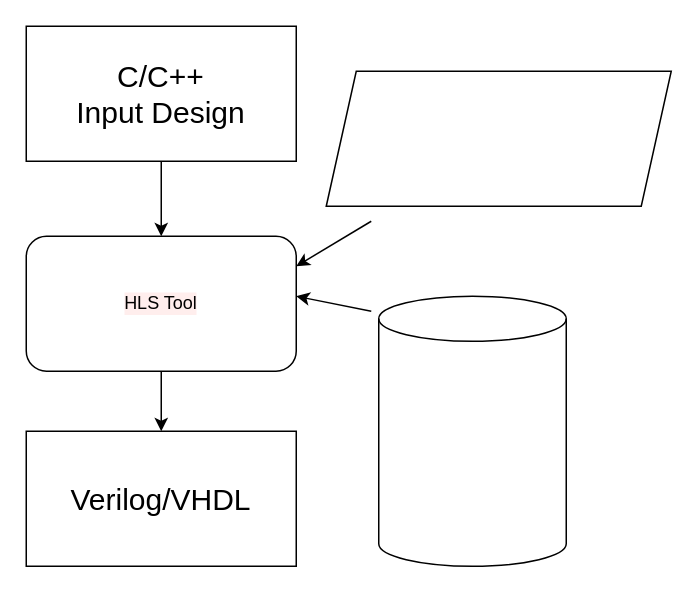
This 698x593 diagram has some shape labels left out. The shapes that lost their labels are listed below. From the top down, each one's centre as x and y in pixels, then its label:
[498,138]: Constraints/Directives
[471,430]: Technology Library Cell Functions Area Timing etc
